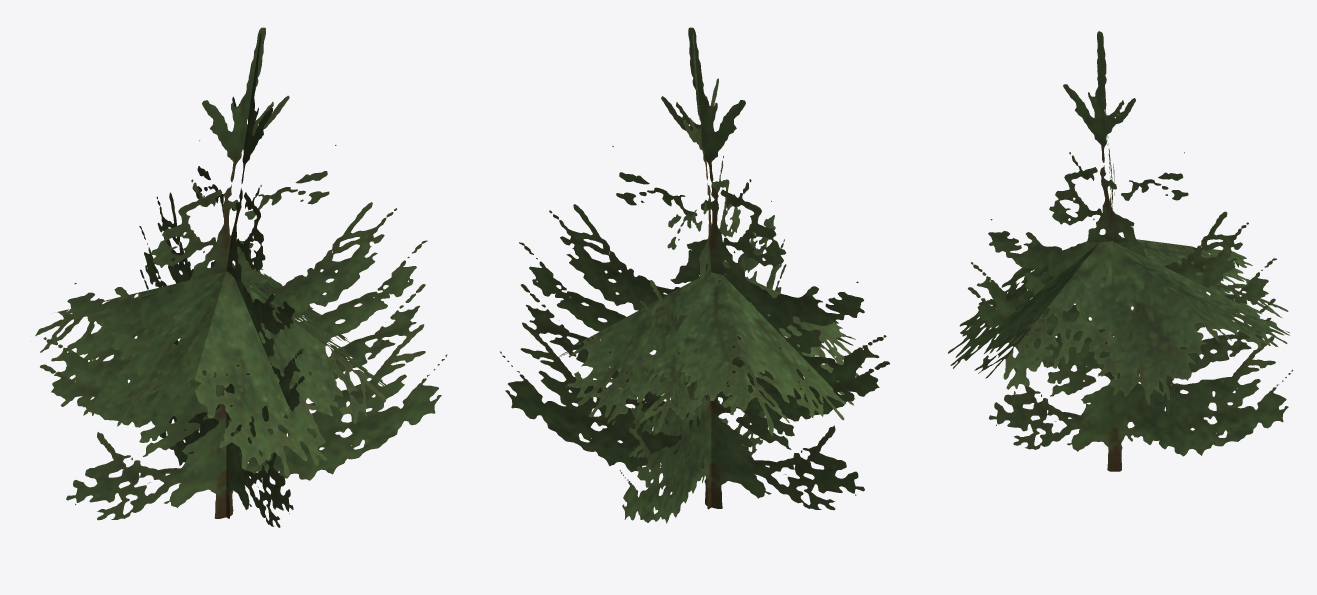
File: forest_bush011.glb
3 views of the same model, side by side, from view 1: azimuth 30°, elevation 25°; view 2: azimuth 150°, elevation 25°; view 3: azimuth 270°, elevation 25° (orthographic). The views are drawn at different scales.
Size of the model in its own units: 1.32 by 1.47 by 1.03.
Materials: 1 (1 with a texture image).
